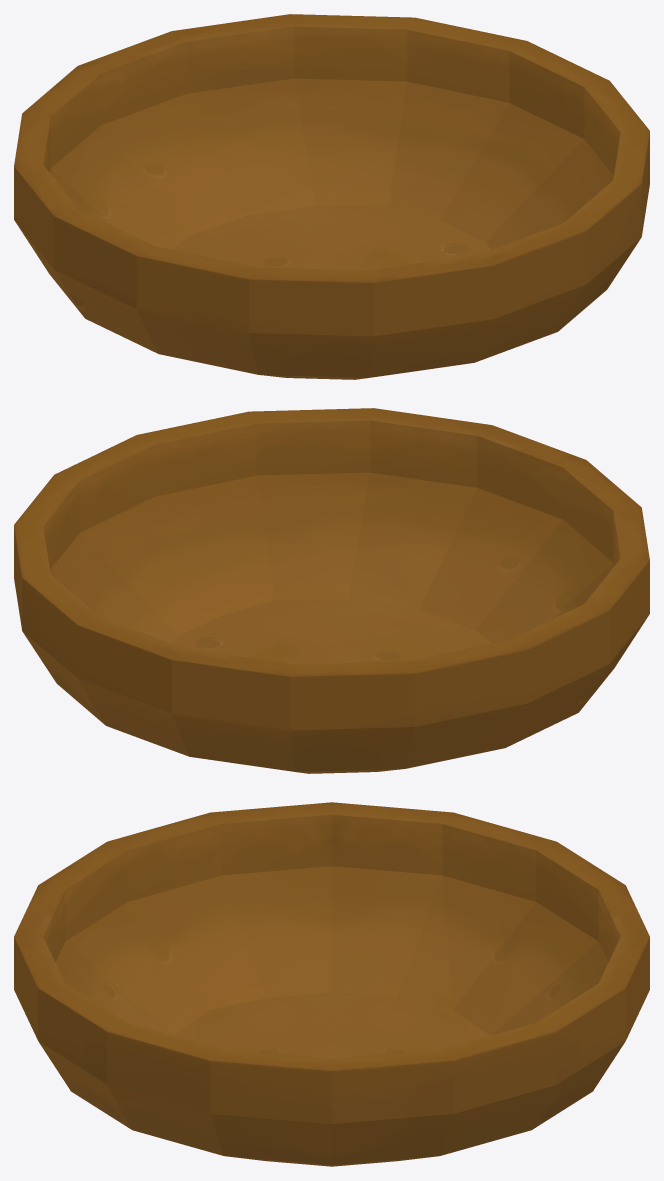
The model's file is plate1.gltf.
3 renders of one model, top to bottom at view 1: azimuth 30°, elevation 25°; view 2: azimuth 150°, elevation 25°; view 3: azimuth 270°, elevation 25°, orthographic.
Visible parts, largest first — view 1: fruis_and_vegetables.001; view 2: fruis_and_vegetables.001; view 3: fruis_and_vegetables.001.
Part boxes in pixels (x1=…): fruis_and_vegetables.001: x1=14, y1=14, x2=649, y2=379; fruis_and_vegetables.001: x1=14, y1=408, x2=649, y2=773; fruis_and_vegetables.001: x1=14, y1=802, x2=649, y2=1166.
Bounding box in the file's own units: 0.4446 × 0.1205 × 0.4446.
Materials: 1 (1 with a texture image).
